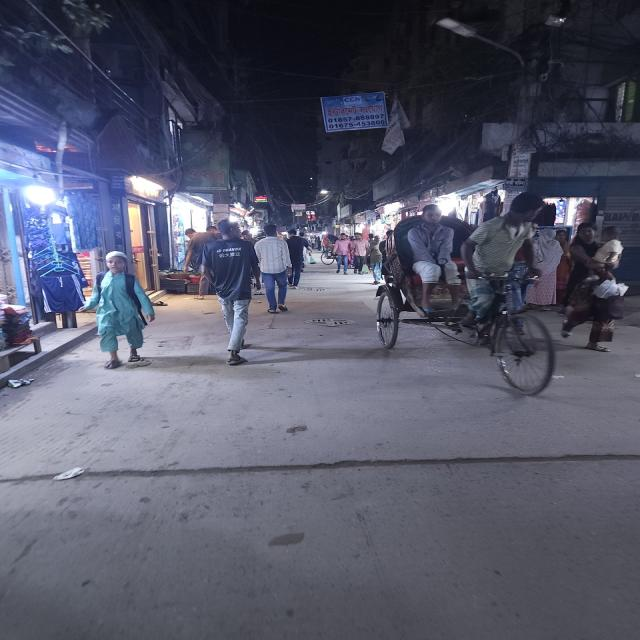pedestrian: (187, 218, 263, 366), (90, 251, 160, 369), (254, 223, 301, 314), (40, 254, 86, 332)
rickshaw: (372, 195, 552, 403)
